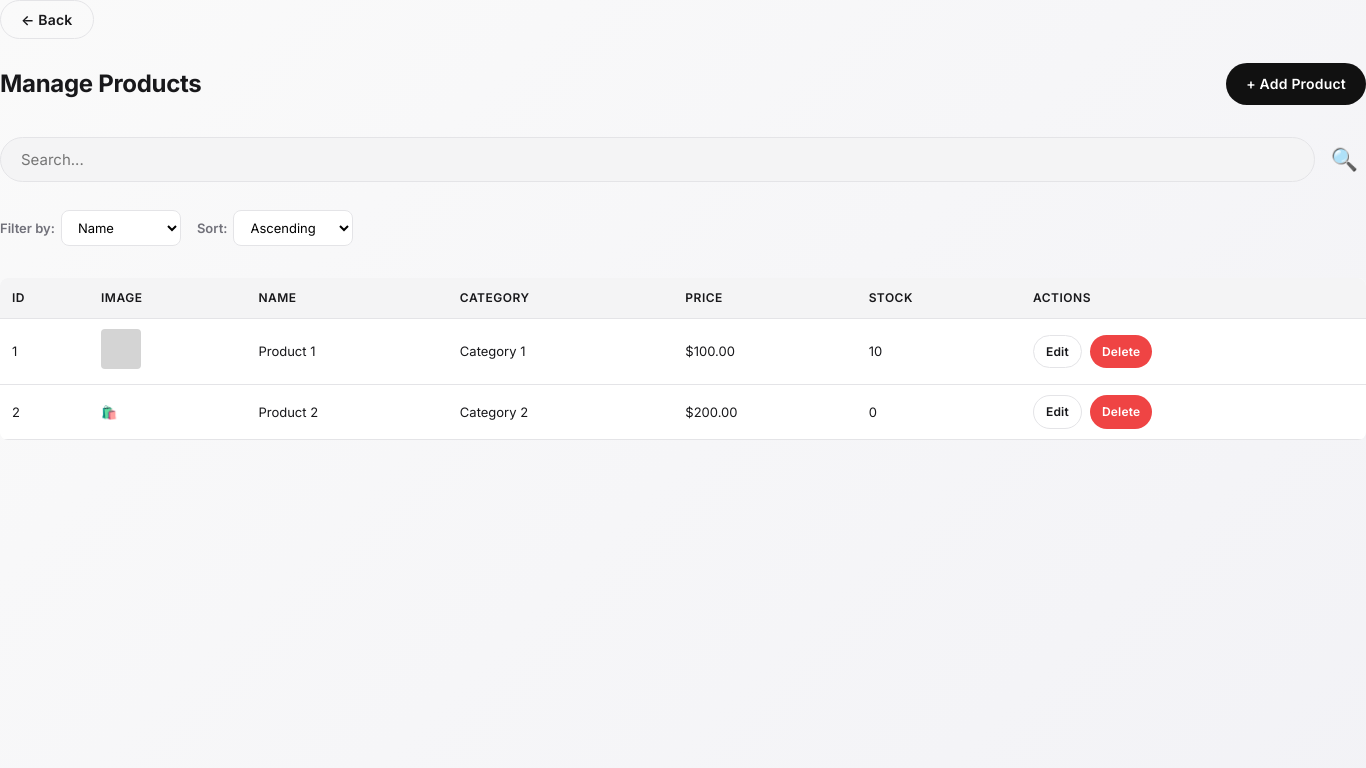
Scenario: AdminProducts › Delete Product › should close modal when cancel clicked
This screenshot has width=1366, height=768.
Click the button "Delete" in the row of "Product 1": click(1121, 352) [1090,335,1152,368]
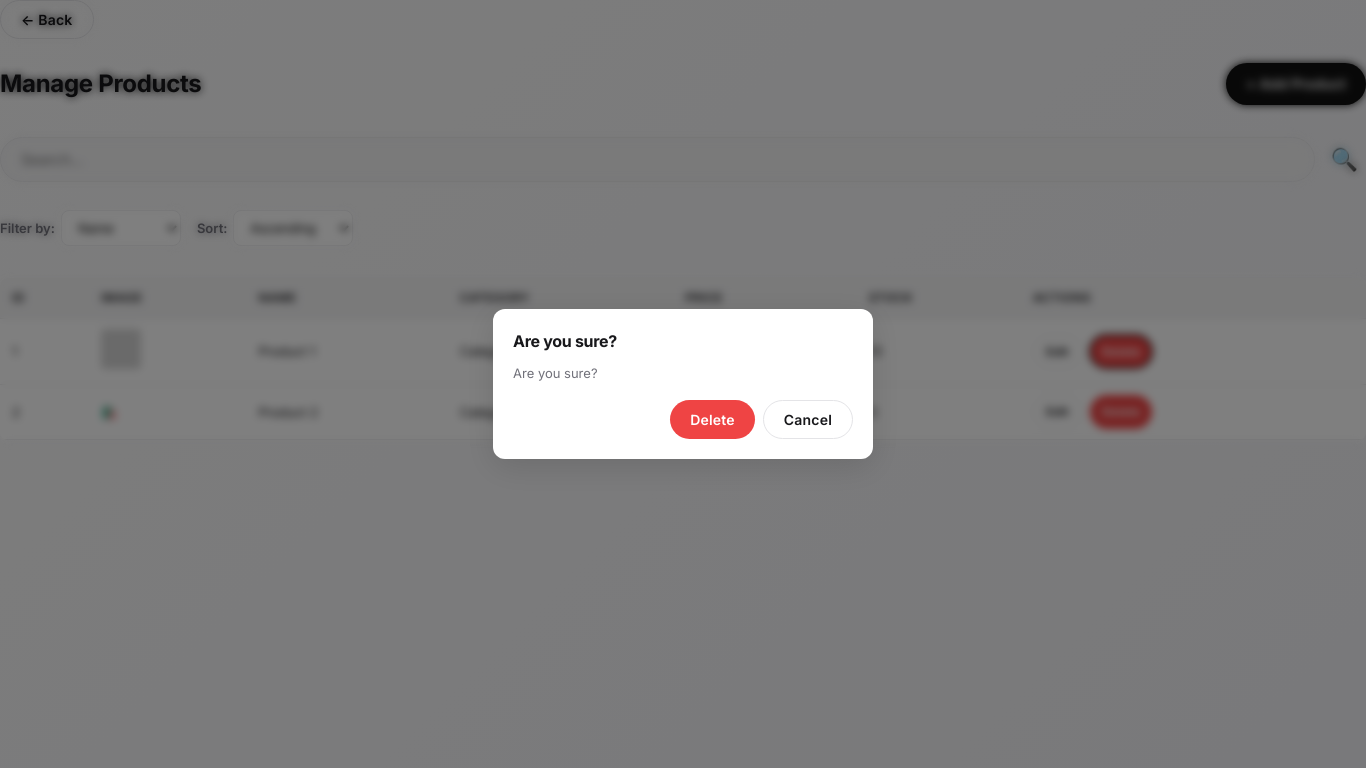
Click the button "Cancel": click(808, 419) [763,400,853,439]
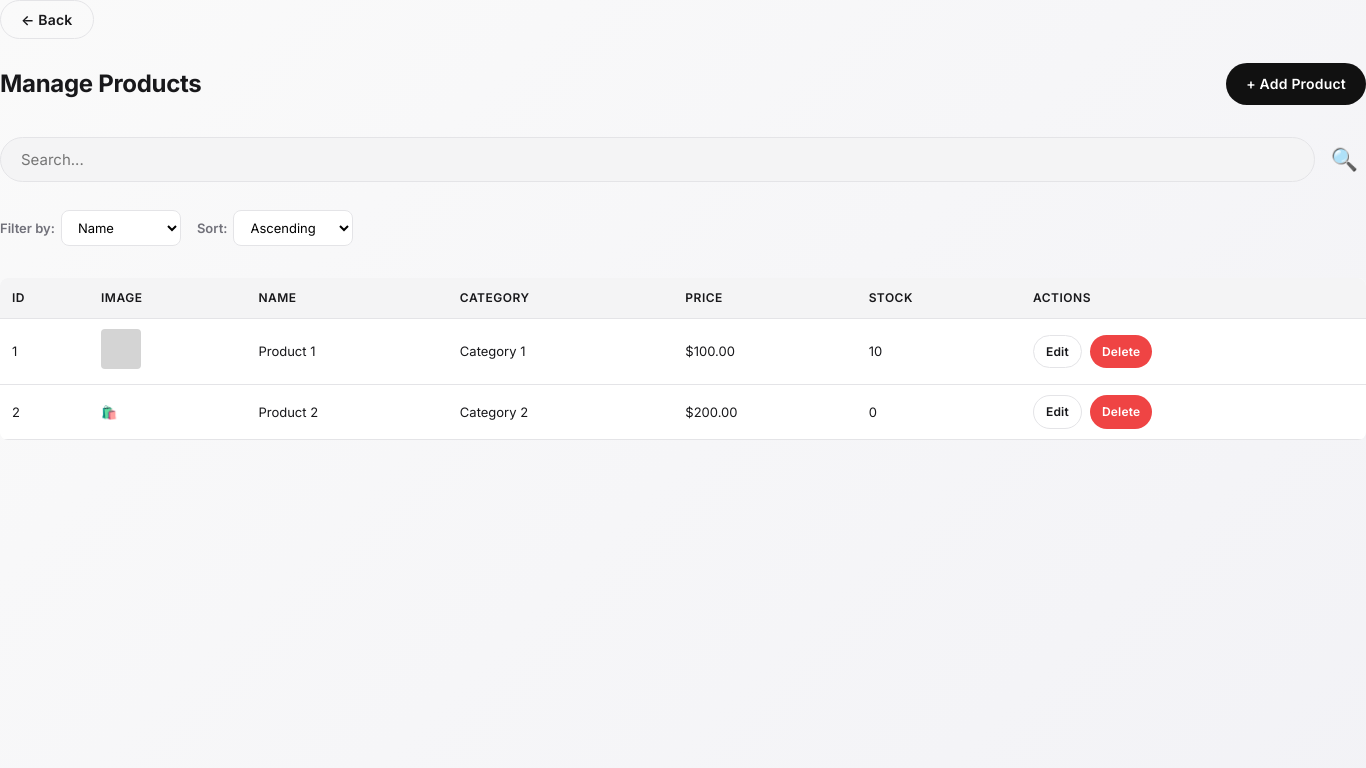
Check: the heading "Are you sure" is gone
